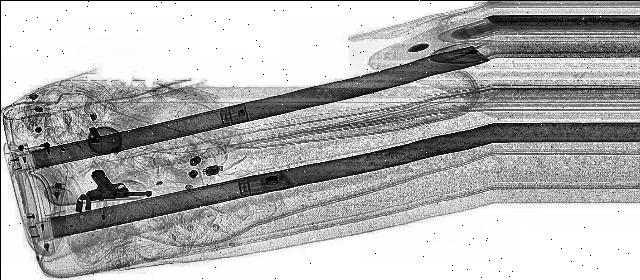Gun: (72, 170, 150, 200)
